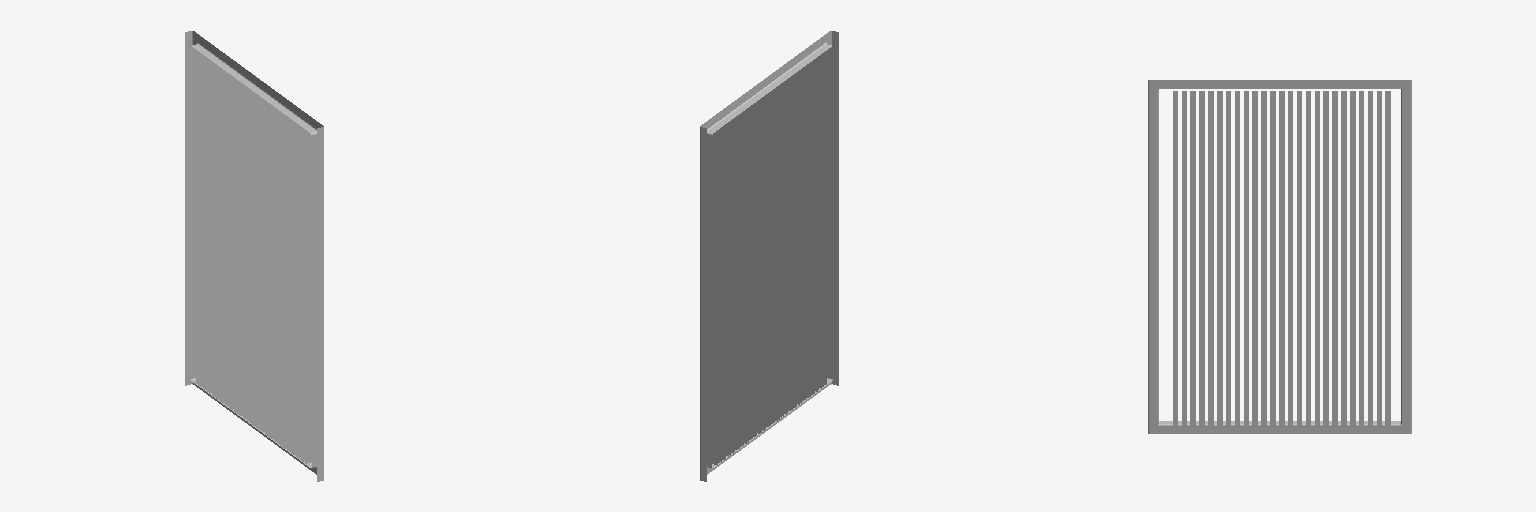
Rendered from DecoHallLEFT.obj.
3 views of the same model, side by side, from view 1: azimuth 30°, elevation 25°; view 2: azimuth 150°, elevation 25°; view 3: azimuth 270°, elevation 25° (orthographic).
Visible parts, largest first — view 1: DecoWallsWoods_Plane.047, DecoWallFrame_Plane.045; view 2: DecoWallsWoods_Plane.047, DecoWallFrame_Plane.045; view 3: DecoWallsWoods_Plane.047, DecoWallFrame_Plane.045.
Boxes of the visible parts, x1,y1,x2,y2 form: DecoWallsWoods_Plane.047: [196, 50, 311, 463]; DecoWallFrame_Plane.045: [185, 31, 323, 481]; DecoWallsWoods_Plane.047: [712, 51, 826, 464]; DecoWallFrame_Plane.045: [700, 31, 838, 481]; DecoWallsWoods_Plane.047: [1173, 91, 1390, 425]; DecoWallFrame_Plane.045: [1148, 80, 1411, 433].
Bounding box in the file's own units: 0.0887 × 3 × 2.02.